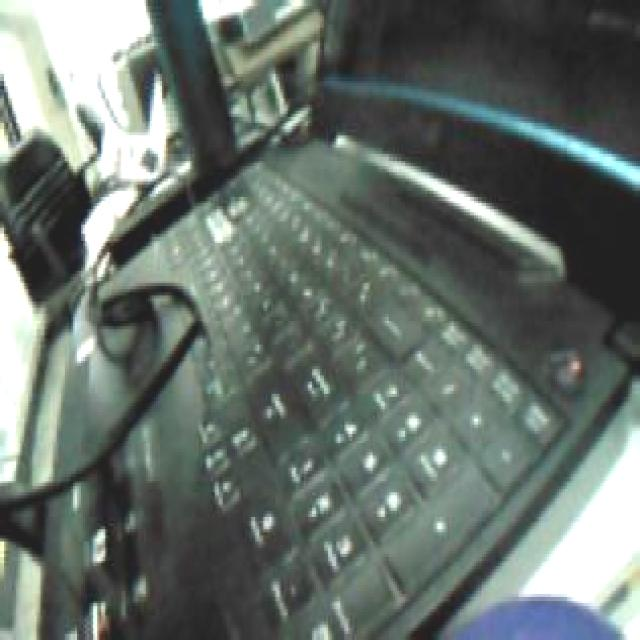BallPurple: (446, 594, 626, 640)
